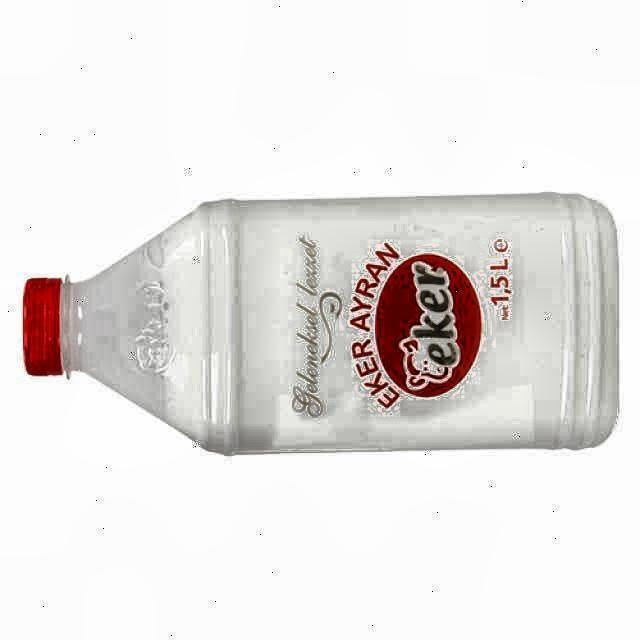plastic: (22, 194, 619, 454)
